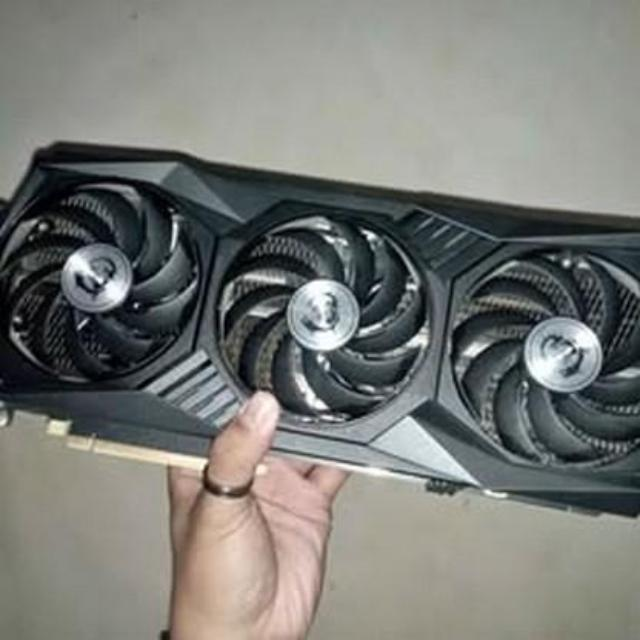GPU: (0, 140, 640, 520)
